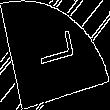L_W: (31, 33, 79, 77)
